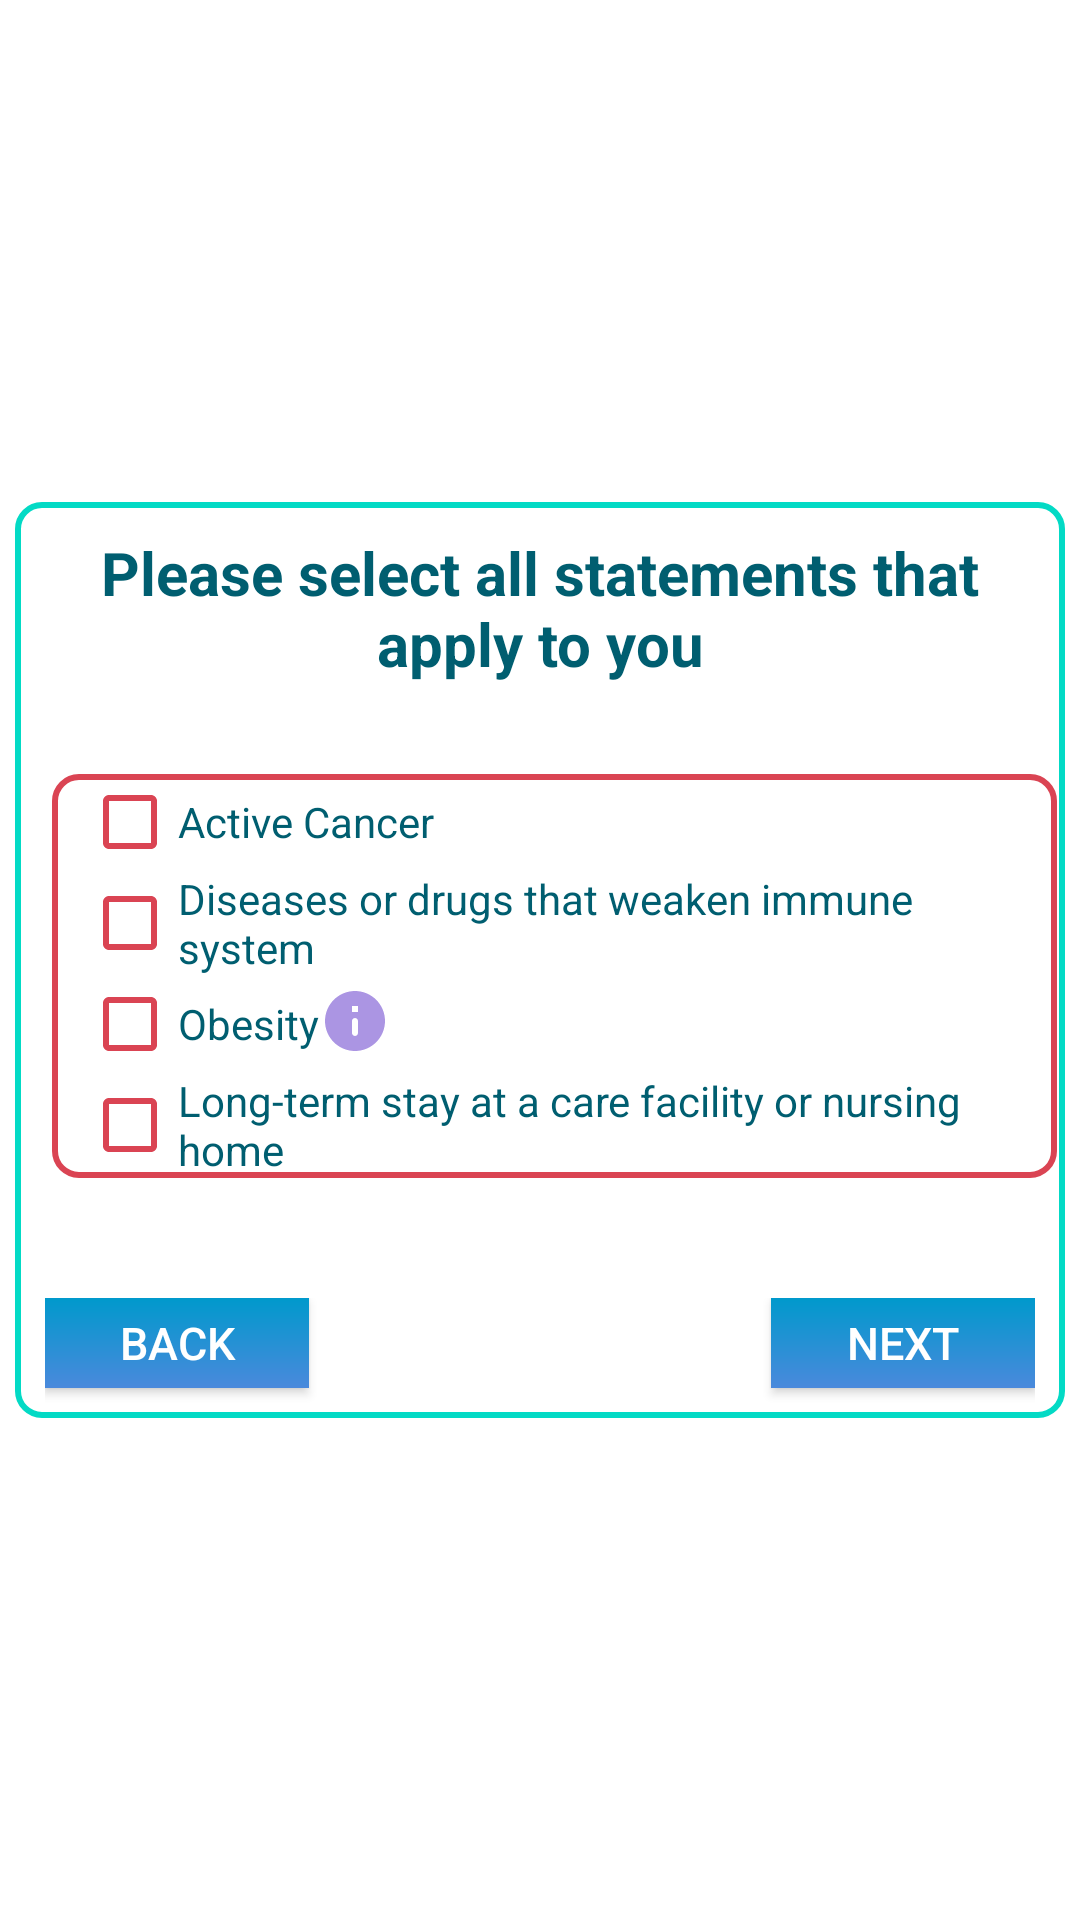

Screen size 1080×1920. Icon name, then its box in pixels as [x1=x1, y1=y1, x2=x2, y2=y2]:
moreinfo: [x1=325, y1=991, x2=385, y2=1051]
